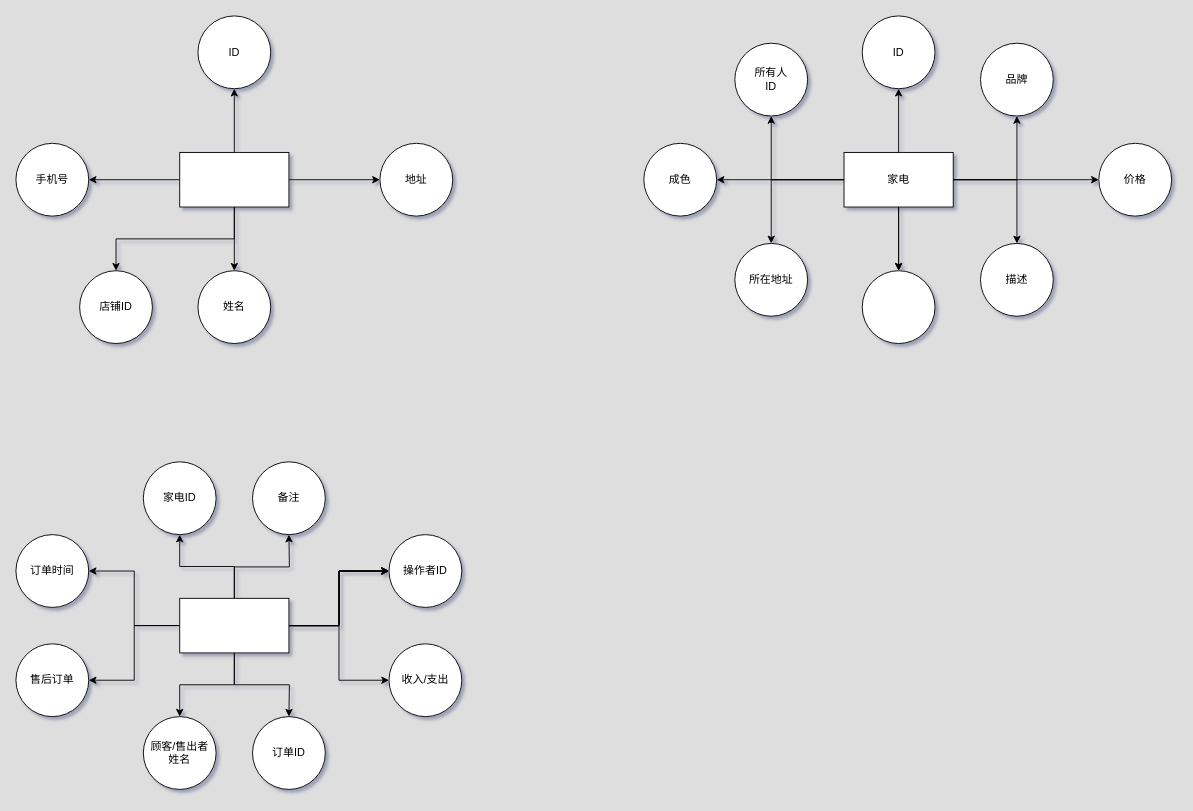
Some shapes in this 1193 by 811 pixel diagram are drawn without their labels. The shapes that lost their labels are listed below. From the top down, each one's centre as x and y in pixels, then its label:
At (234,179): "用户".
At (898,307): "品类".
At (234,625): "订单".
